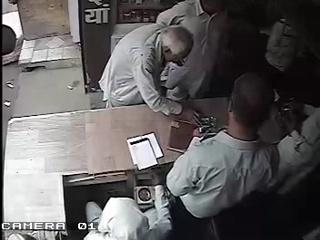Normal: (165, 72, 288, 239), (98, 24, 200, 125), (172, 0, 261, 101)
